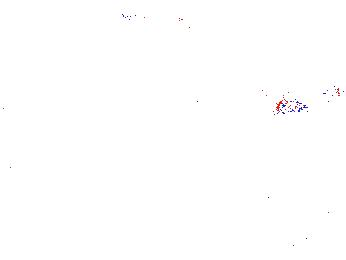glassfish: (238, 86, 309, 116)
red belly glassfish: (159, 3, 180, 16)
redtail glassfish: (117, 6, 189, 29)
